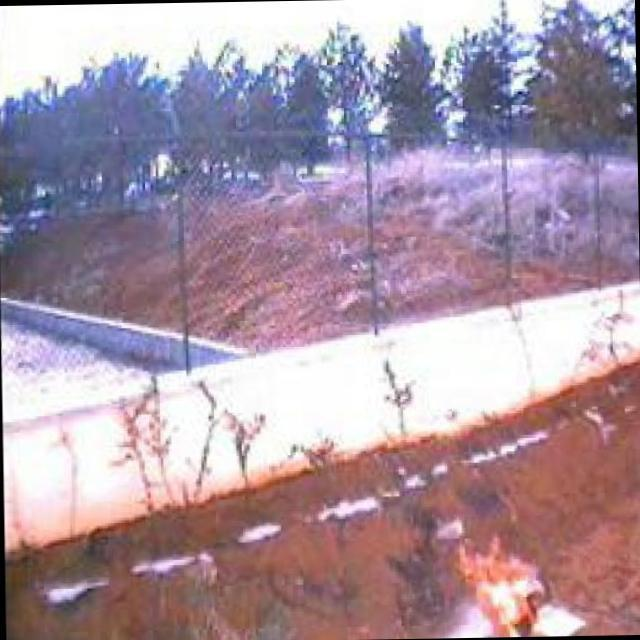Fire: (454, 529, 547, 639)
